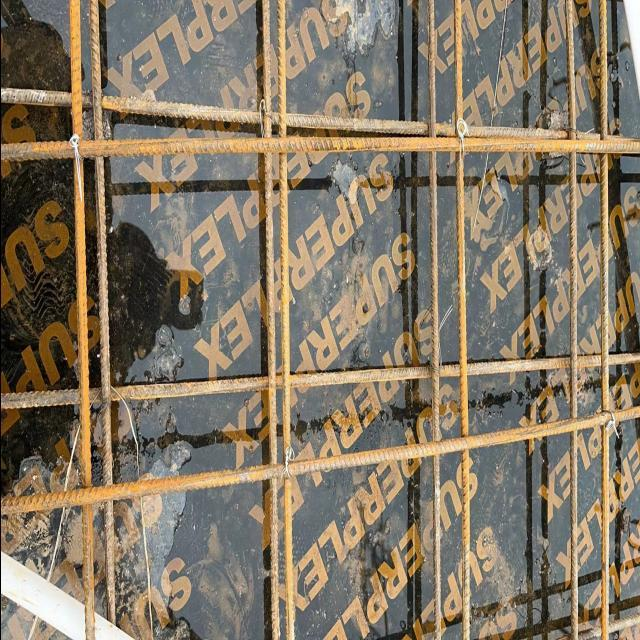ribbed bar: (1, 403, 640, 517), (1, 349, 640, 412), (1, 82, 552, 142), (89, 0, 117, 620), (68, 0, 94, 639), (1, 135, 640, 160), (451, 0, 471, 639), (563, 0, 581, 639), (425, 0, 443, 639), (276, 0, 294, 639), (261, 0, 279, 639), (597, 0, 609, 639)
